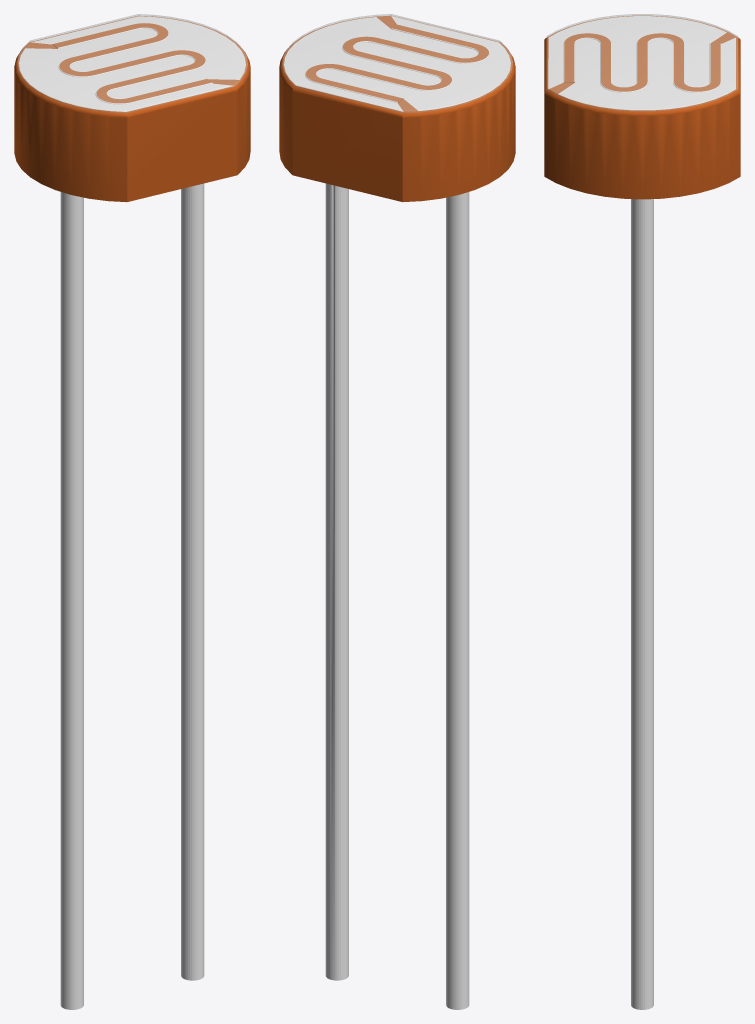
The model's file is ldr.glb.
3 renders of one model, left to right at view 1: azimuth 30°, elevation 25°; view 2: azimuth 150°, elevation 25°; view 3: azimuth 270°, elevation 25°, orthographic.
Visible parts, largest first — view 1: metal_002-material, marron_001-material, _BRANCO_004-material; view 2: metal_002-material, marron_001-material, _BRANCO_004-material; view 3: metal_002-material, marron_001-material, _BRANCO_004-material.
Part boxes in pixels (left/top/right/bottom): metal_002-material: left=19, top=16, right=245, bottom=1009; marron_001-material: left=14, top=15, right=250, bottom=202; _BRANCO_004-material: left=17, top=14, right=247, bottom=112; metal_002-material: left=284, top=16, right=510, bottom=1009; marron_001-material: left=279, top=15, right=515, bottom=201; _BRANCO_004-material: left=282, top=14, right=512, bottom=112; metal_002-material: left=548, top=16, right=735, bottom=1009; marron_001-material: left=544, top=15, right=740, bottom=199; _BRANCO_004-material: left=546, top=14, right=738, bottom=111.
Size of the model in its own units: 0.0051 by 0.0221 by 0.0043.
